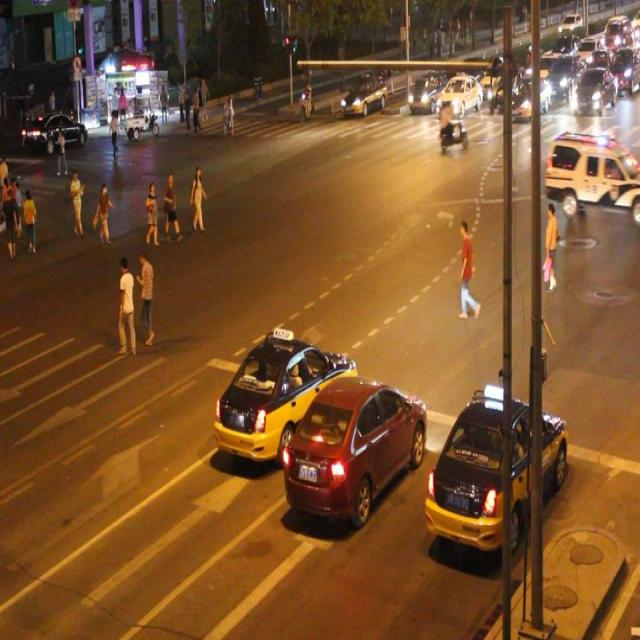car: (429, 388, 566, 548), (215, 331, 354, 468), (288, 380, 421, 520), (547, 132, 640, 216), (340, 73, 386, 115), (434, 74, 481, 114), (408, 75, 438, 110)
